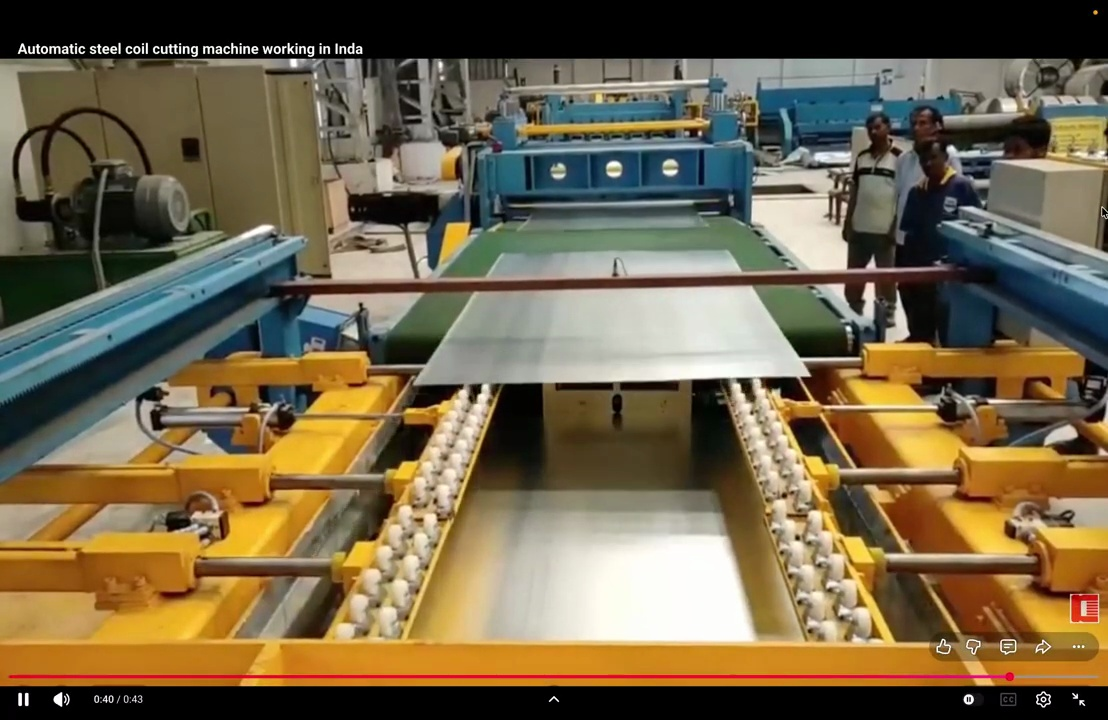steel plate: (489, 251, 739, 276), (518, 206, 705, 231)
